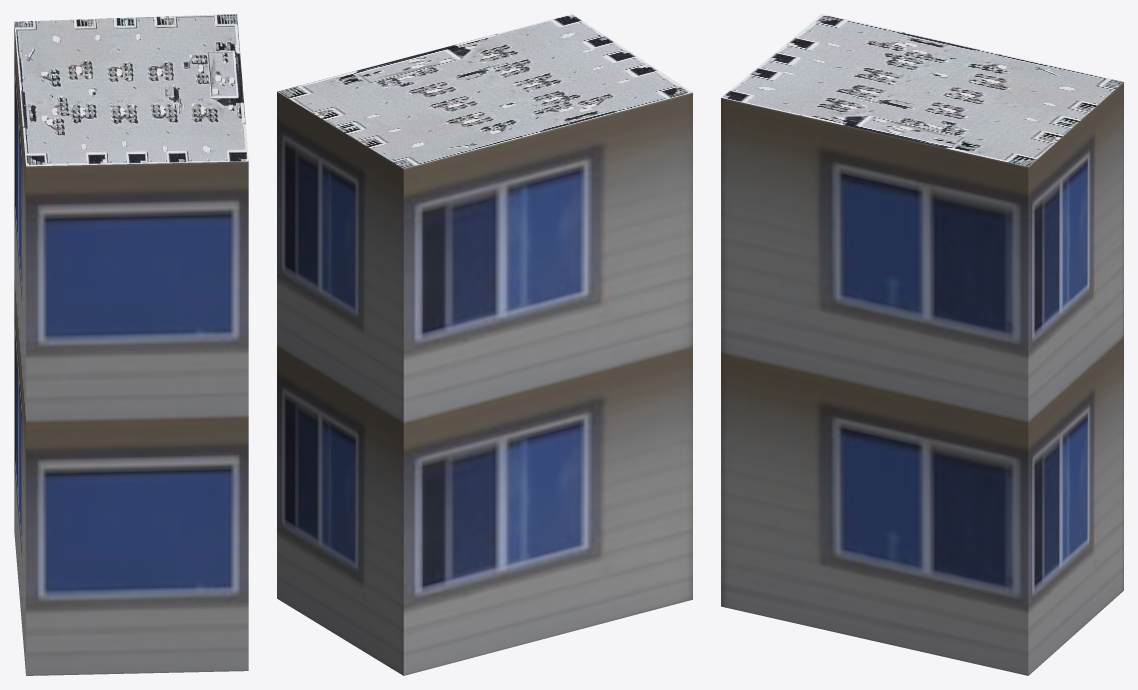
The model's file is ResTex__4194.fbx.
The picture shows the model from 3 angles, left to right: view 1: azimuth 30°, elevation 25°; view 2: azimuth 150°, elevation 25°; view 3: azimuth 270°, elevation 25°; orthographic projection.
Visible parts, largest first — view 1: CityEngineMaterial_23_m, CityEngineMaterial_2_m; view 2: CityEngineMaterial_23_m, CityEngineMaterial_2_m; view 3: CityEngineMaterial_23_m, CityEngineMaterial_2_m.
Boxes of the visible parts, left/top/right/bottom form: CityEngineMaterial_23_m: left=14, top=24, right=248, bottom=675; CityEngineMaterial_2_m: left=14, top=14, right=248, bottom=166; CityEngineMaterial_23_m: left=277, top=91, right=692, bottom=675; CityEngineMaterial_2_m: left=277, top=14, right=692, bottom=168; CityEngineMaterial_23_m: left=721, top=82, right=1123, bottom=675; CityEngineMaterial_2_m: left=721, top=14, right=1123, bottom=167.
Bounding box in the file's own units: 3.88 × 6 × 4.31.
2 materials, 2 textured.
